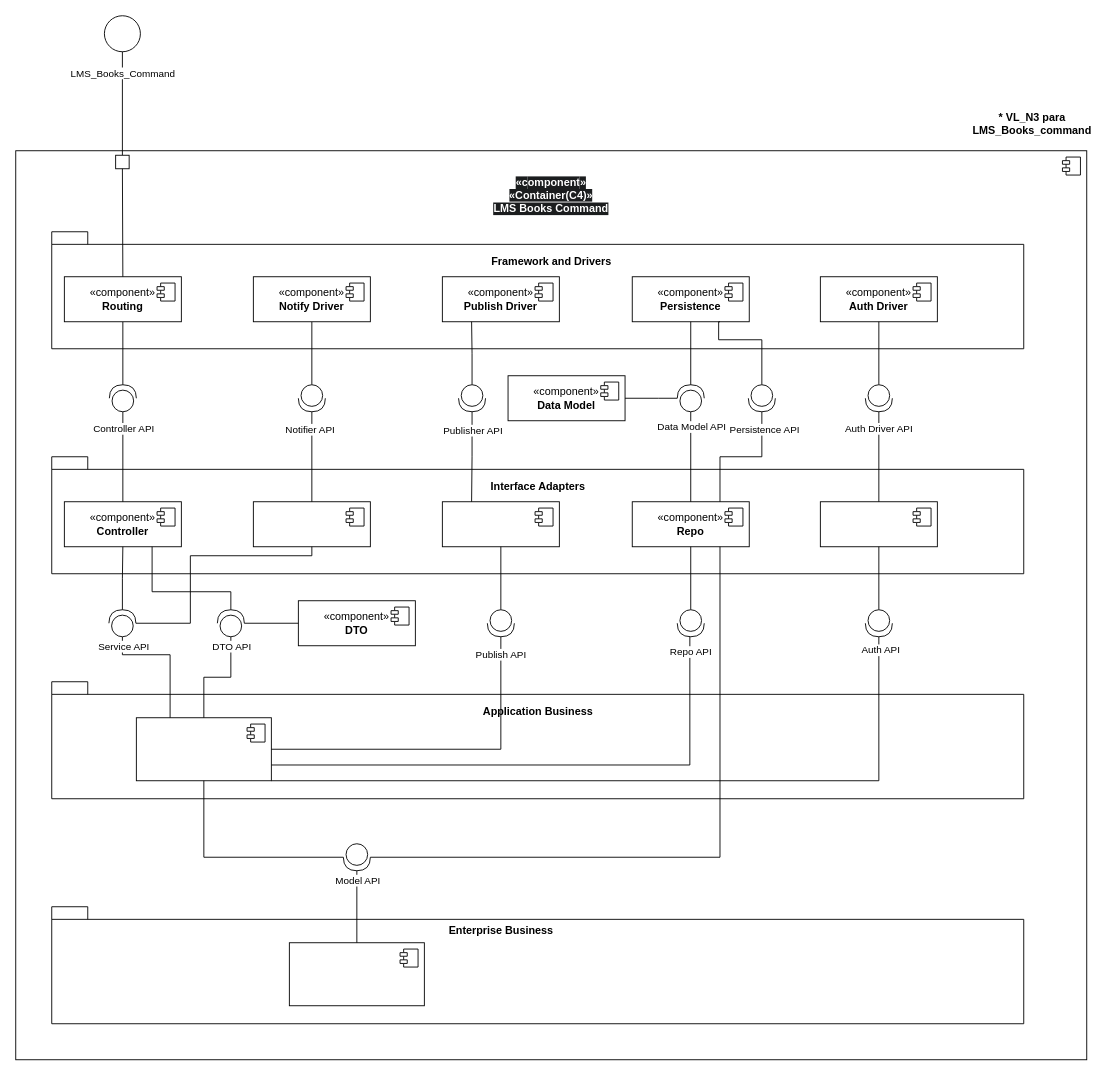
This 1115x1076 diagram has some shape labels left out. Each missing label, with the centre of its shape:
«component» Application Service: (x=203, y=749)
«component» Auth Provider: (x=878, y=524)
«component» Domain: (x=356, y=974)
«component» Listener: (x=311, y=524)
«component» Publisher: (x=500, y=524)
